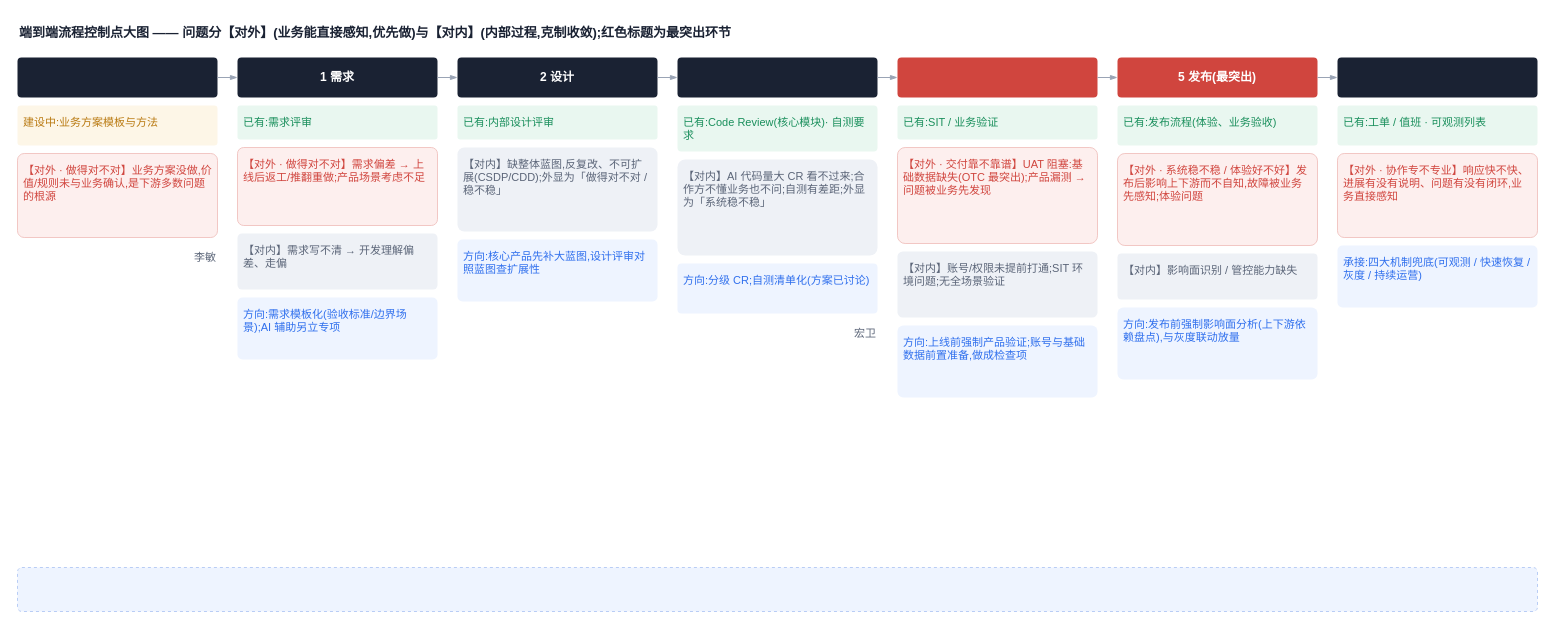
This 1555x629 diagram has some shape labels left out. The shapes that lost their labels are listed below. From the top down, each one's centre as x and y in pixels, then its label:
point 117,77: 0 业务方案(环节缺失,建设中)
point 777,77: 3 编码(AI)
point 997,77: 4 测试(问题集中)
point 1437,77: 6 运维
point 777,589: 机制底座(全流程兜底):可观测 + 预警 · 快速响应 / 快速恢复(高可用) · 灰度控制影响面 · 统一框架(平台) · 质量持续运营
